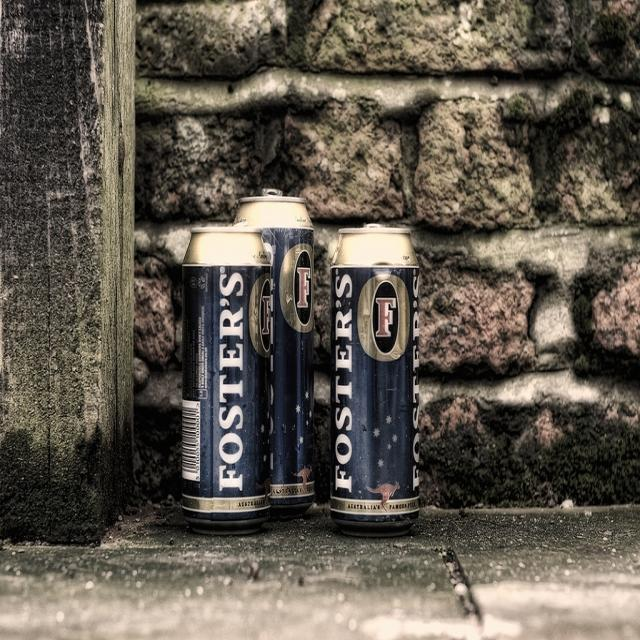fosters: (355, 272, 411, 365), (279, 243, 315, 336), (248, 274, 273, 359)
